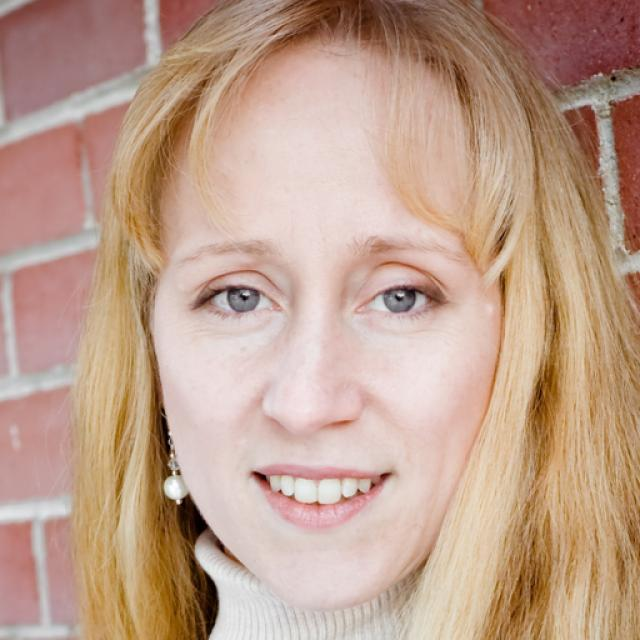happy: (152, 71, 503, 604)
